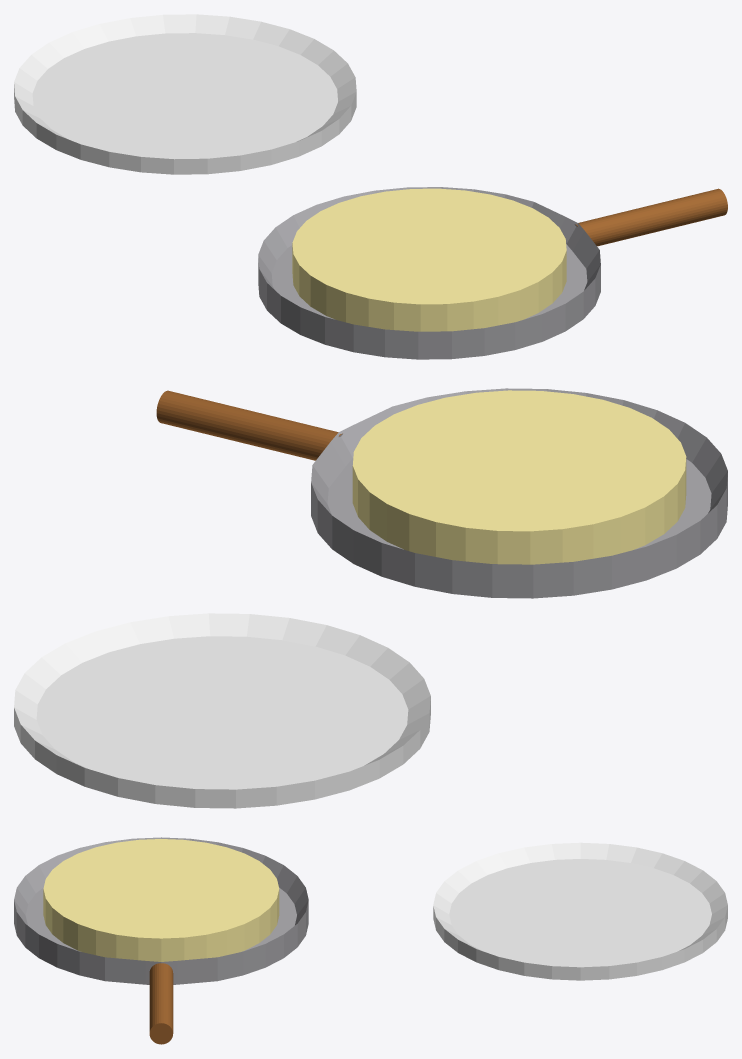
Rendered from pan.glb.
The picture shows the model from 3 angles, top to bottom: view 1: azimuth 30°, elevation 25°; view 2: azimuth 150°, elevation 25°; view 3: azimuth 270°, elevation 25°; orthographic projection. The views are drawn at different scales.
Parts seen in each view (by area): view 1: Plate, Cylinder, Pan; view 2: Plate, Cylinder, Pan; view 3: Plate, Cylinder, Pan.
Part boxes in pixels (bbox=[...]): Plate: bbox=[14, 14, 356, 174]; Cylinder: bbox=[292, 188, 566, 331]; Pan: bbox=[258, 187, 727, 359]; Plate: bbox=[14, 613, 430, 808]; Cylinder: bbox=[352, 390, 686, 564]; Pan: bbox=[156, 388, 727, 598]; Plate: bbox=[433, 842, 727, 980]; Cylinder: bbox=[43, 839, 279, 961]; Pan: bbox=[14, 837, 308, 1044].
Size of the model in its own units: 2.96 by 0.2615 by 4.84.
